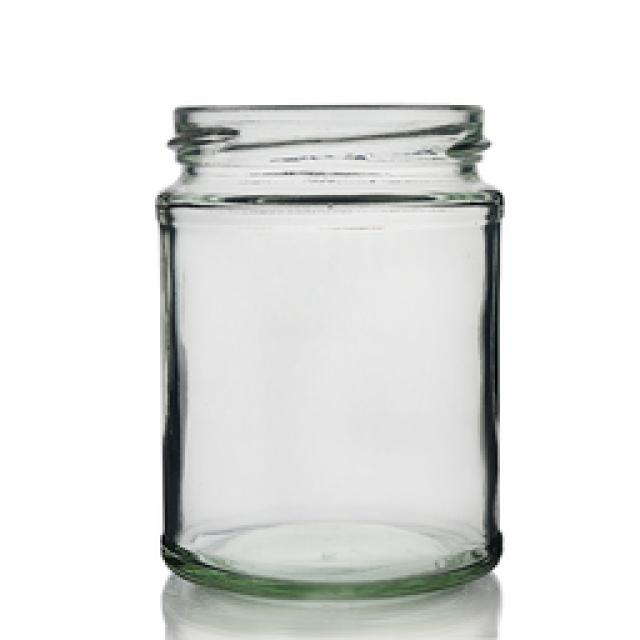glass: (155, 105, 502, 638)
